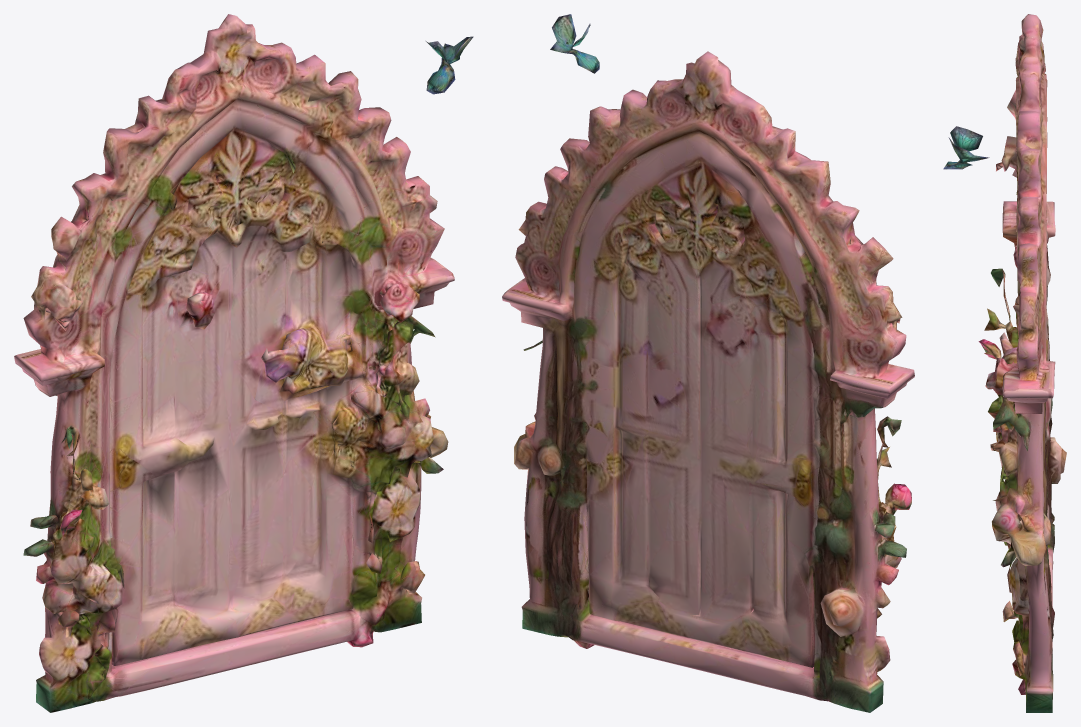
Rendered from _Object_Ornate.glb.
3 views of the same model, side by side, from view 1: azimuth 30°, elevation 25°; view 2: azimuth 150°, elevation 25°; view 3: azimuth 270°, elevation 25° (orthographic). The views are drawn at different scales.
Parts seen in each view (by area): view 1: _Object_Ornate; view 2: _Object_Ornate; view 3: _Object_Ornate.
Part boxes in pixels (x1,y1,x2,y2): _Object_Ornate: [14, 14, 473, 712]; _Object_Ornate: [502, 14, 914, 712]; _Object_Ornate: [943, 14, 1066, 712].
Size of the model in its own units: 1.33 by 1.99 by 0.3598.
Materials: 1 (1 with a texture image).
